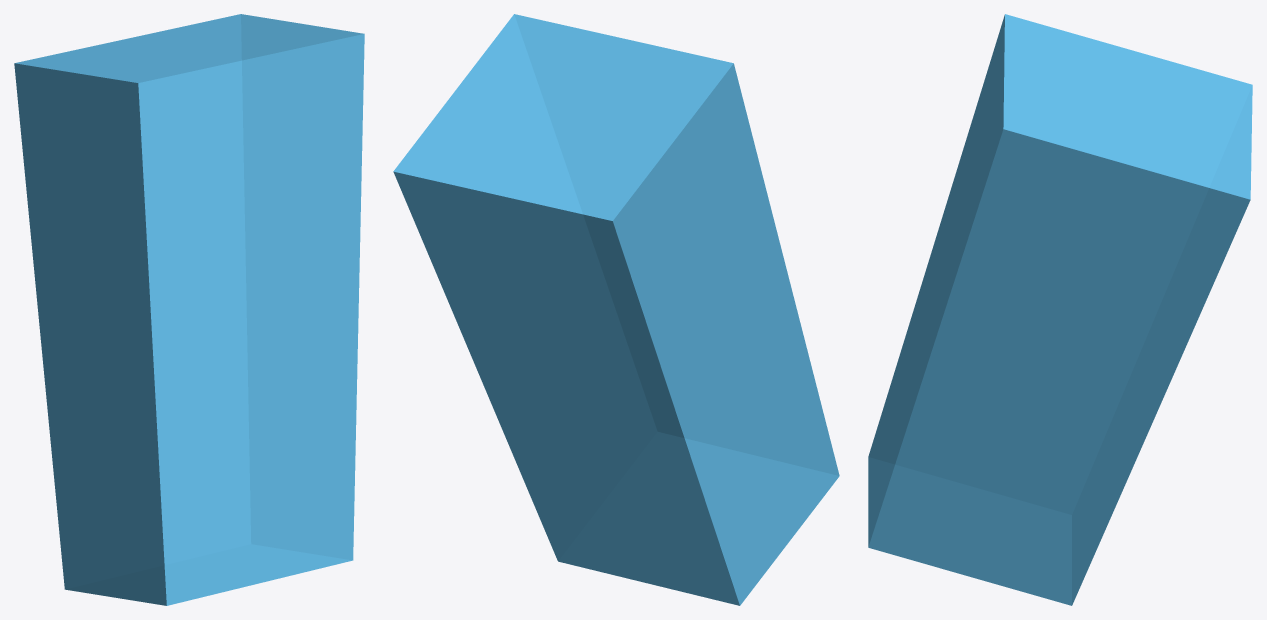
The model's file is Event_420604493_HBrechit_27.fbx.
3 renders of one model, left to right at view 1: azimuth 30°, elevation 25°; view 2: azimuth 150°, elevation 25°; view 3: azimuth 270°, elevation 25°, orthographic. The views are drawn at different scales.
Parts seen in each view (by area): view 1: Model; view 2: Model; view 3: Model.
Part boxes in pixels (x1=…): Model: x1=14, y1=14, x2=364, y2=605; Model: x1=393, y1=14, x2=839, y2=605; Model: x1=868, y1=14, x2=1252, y2=605.
Bounding box in the file's own units: 0.5758 × 1.08 × 0.7228.
